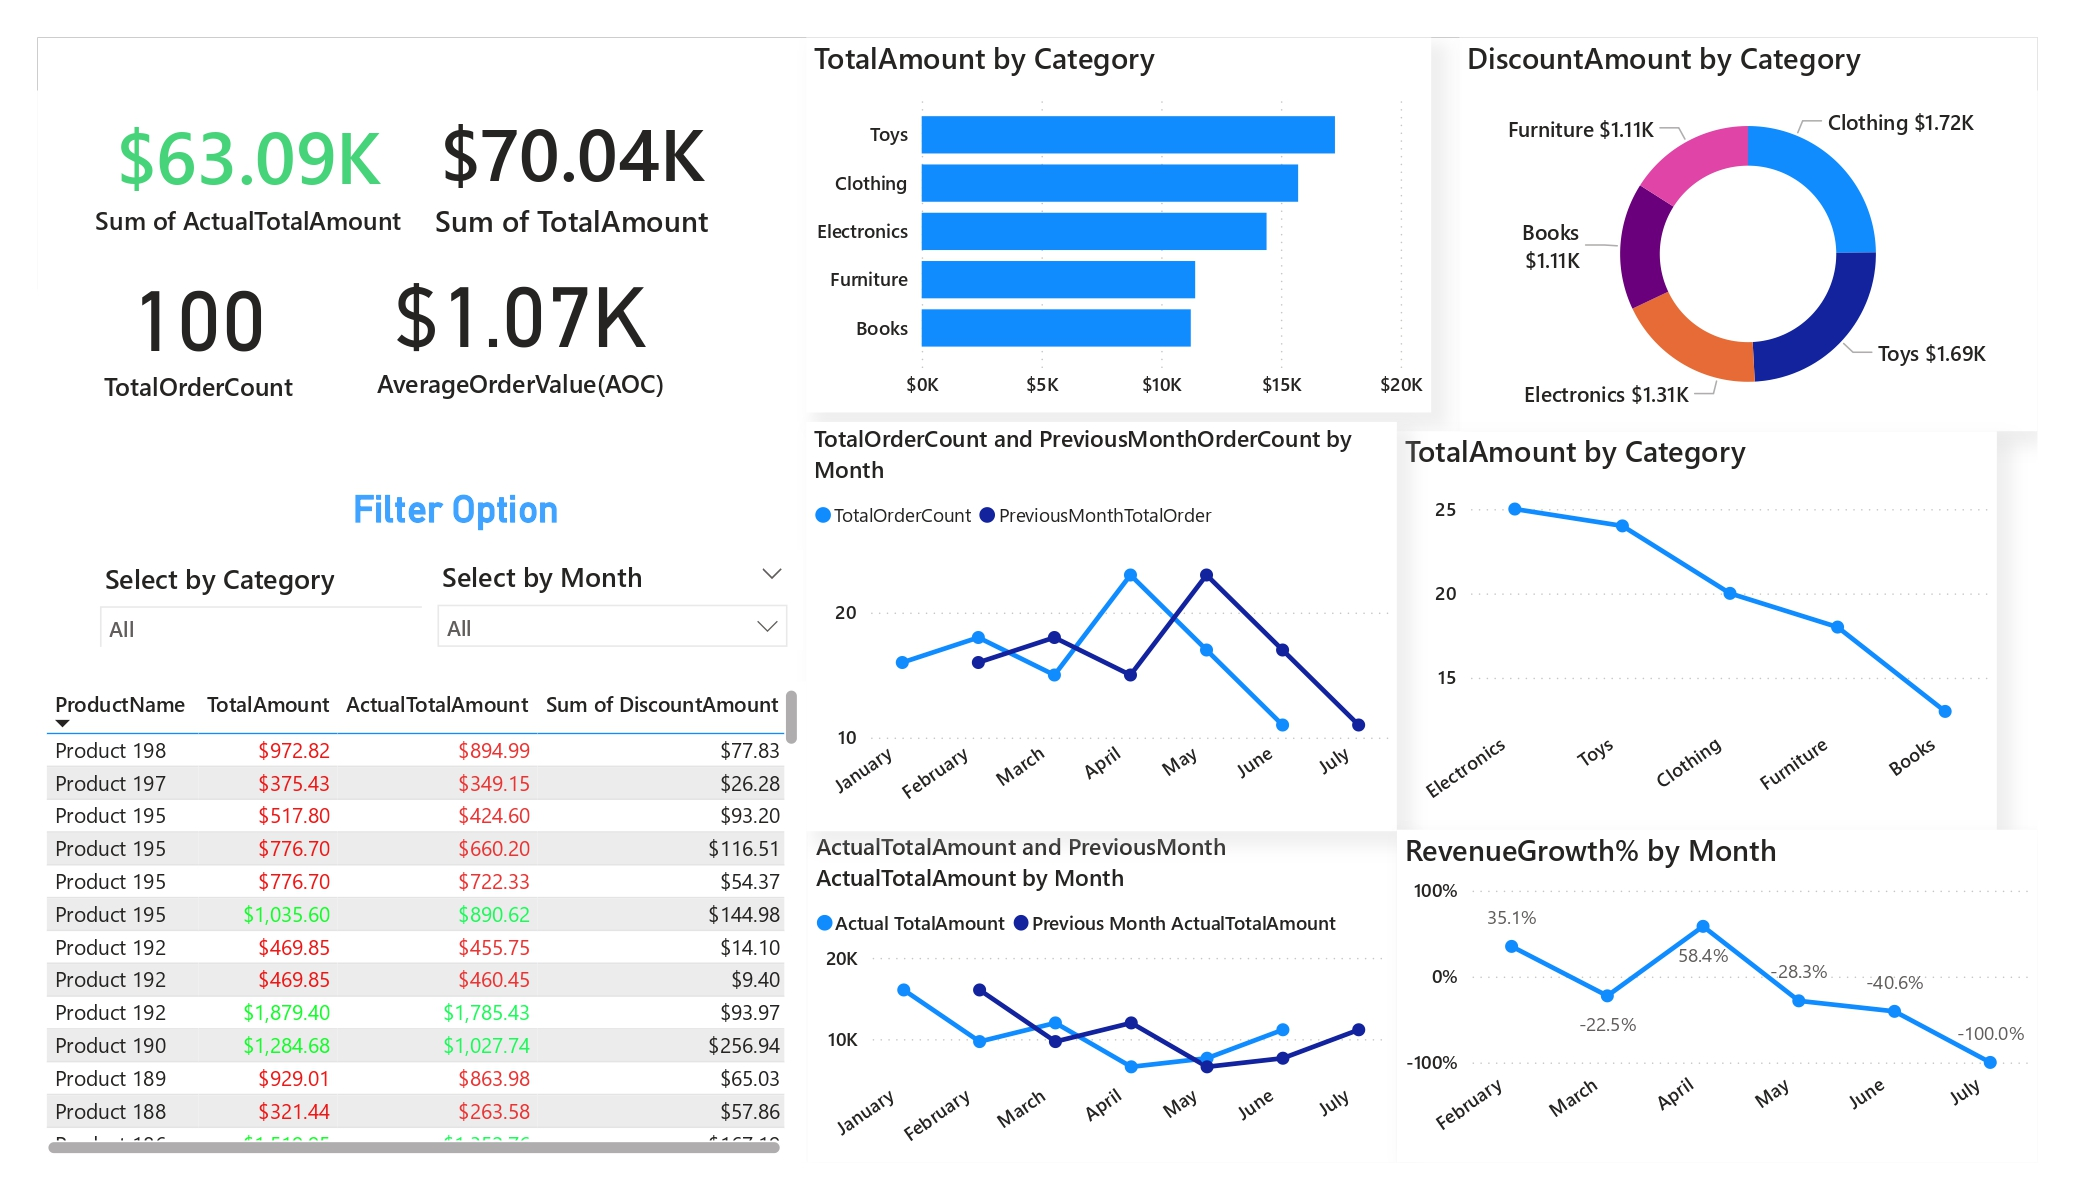

The page's visual inventory and layout, read from the dashboard file:
{"tool":"powerbi","page":{"name":"Page 5","canvas":[1280,720],"ordinal":0},"visuals":[{"type":"card","fields":{"Values":["Sum(Query1.ActualTotalAmount)"]},"box":[30,28,210,114],"z":0},{"type":"card","fields":{"Values":["Sum(Query1.TotalAmount)"]},"box":[240,28,204,114],"z":1000},{"type":"card","fields":{"Values":["_Measures.TotalOrderCount"]},"box":[30,128,146,114],"z":2000},{"type":"card","fields":{"Values":["_Measures.AverageOrderValue(AOC)"]},"box":[212,126,194,114],"z":3000},{"type":"donutChart","title":"DiscountAmount by Category","fields":{"Category":["Products.Category"],"Y":["Sum(Query1.DiscountAmount)"]},"box":[910,0,370,252],"z":4000},{"type":"clusteredBarChart","title":"TotalAmount by Category","fields":{"Category":["Products.Category"],"Y":["Sum(Query1.TotalAmount)"]},"box":[492,0,400,240],"z":5000},{"type":"lineChart","title":"TotalAmount by Category","fields":{"Y":["CountNonNull(Query1.TotalAmount)"],"Category":["Products.Category"]},"box":[870,252,384,256],"z":6000},{"type":"lineChart","title":"ActualTotalAmount and PreviousMonth ActualTotalAmount by Month","fields":{"Category":["Calendar.Date.Variation.Date Hierarchy.Month"],"Y":["Calendar.Actual TotalAmount","Calendar.Previous Month ActualTotalAmount"]},"box":[492.9,507.1,377.1,212.9],"z":7000},{"type":"lineChart","title":"TotalOrderCount and PreviousMonthOrderCount by Month","fields":{"Y":["_Measures.TotalOrderCount","_Measures.PreviousMonthTotalOrder"],"Category":["Calendar.Date.Variation.Date Hierarchy.Month"]},"box":[492,246,378,262],"z":8000},{"type":"lineChart","fields":{"Y":["_Measures.RevenueGrowth%"],"Category":["Calendar.Date.Variation.Date Hierarchy.Month"]},"box":[870,507.1,410,212.9],"z":9000},{"type":"tableEx","fields":{"Values":["Products.ProductName","Query1.TotalAmount","Query1.ActualTotalAmount","Sum(Query1.DiscountAmount)"]},"box":[0,412,492,308],"z":10000},{"type":"slicer","fields":{"Values":["Products.Category"]},"box":[30,328.6,262.9,61.4],"z":11000},{"type":"slicer","fields":{"Values":["Calendar.Date.Variation.Date Hierarchy.Month"]},"box":[246,328,244,64],"z":12000},{"type":"textbox","box":[197.1,282.9,168.6,45.7],"z":13000}]}

Visuals, with their boxes in screenshot pixels (x1, y1, x2, y2):
card - Sum(Query1.ActualTotalAmount): 84:81:412:259
card - Sum(Query1.TotalAmount): 412:81:731:259
card - _Measures.TotalOrderCount: 84:238:312:416
card - _Measures.AverageOrderValue(AOC): 369:234:672:412
"DiscountAmount by Category" donutChart: 1459:38:2038:431
"TotalAmount by Category" clusteredBarChart: 806:38:1431:412
"TotalAmount by Category" lineChart: 1397:431:1997:831
"ActualTotalAmount and PreviousMonth ActualTotalAmount by Month" lineChart: 808:830:1397:1162
"TotalOrderCount and PreviousMonthOrderCount by Month" lineChart: 806:422:1397:831
lineChart - _Measures.RevenueGrowth% x Calendar.Date.Variation.Date Hierarchy.Month: 1397:830:2038:1162
tableEx - Products.ProductName x Query1.TotalAmount: 38:681:806:1162
slicer - Products.Category: 84:551:495:647
slicer - Calendar.Date.Variation.Date Hierarchy.Month: 422:550:803:650
textbox: 345:480:609:551
